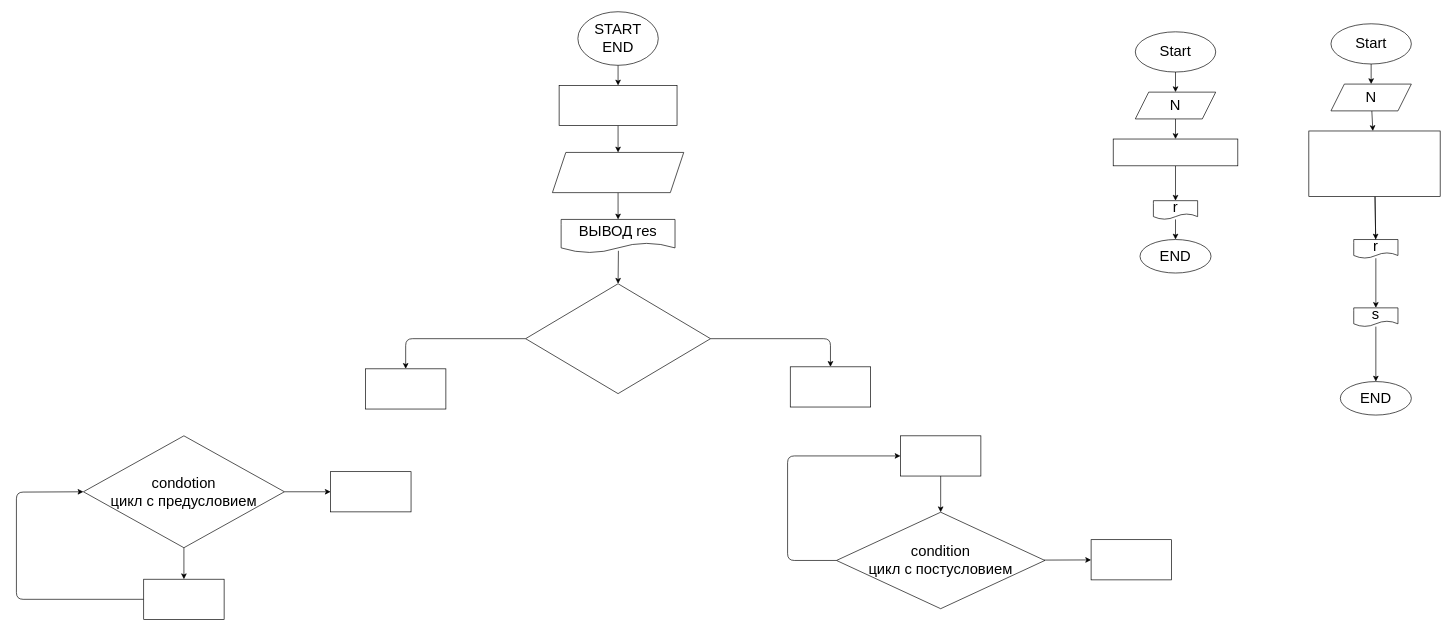
The diagram is 1452 pixels wide and 631 high, and some of its shapes have lost their labels. The centre of each missing label's shape, as x and y in pixels:
"condition условный оператор" goes at [618,338].
"count - 0 res = 1 * Sqrt (2)" goes at [617,105].
"r = random(1,N)" goes at [1175,152].
"r = random(1,N) s = r*r" goes at [1374,163].
"ВВОД count" goes at [618,172].
